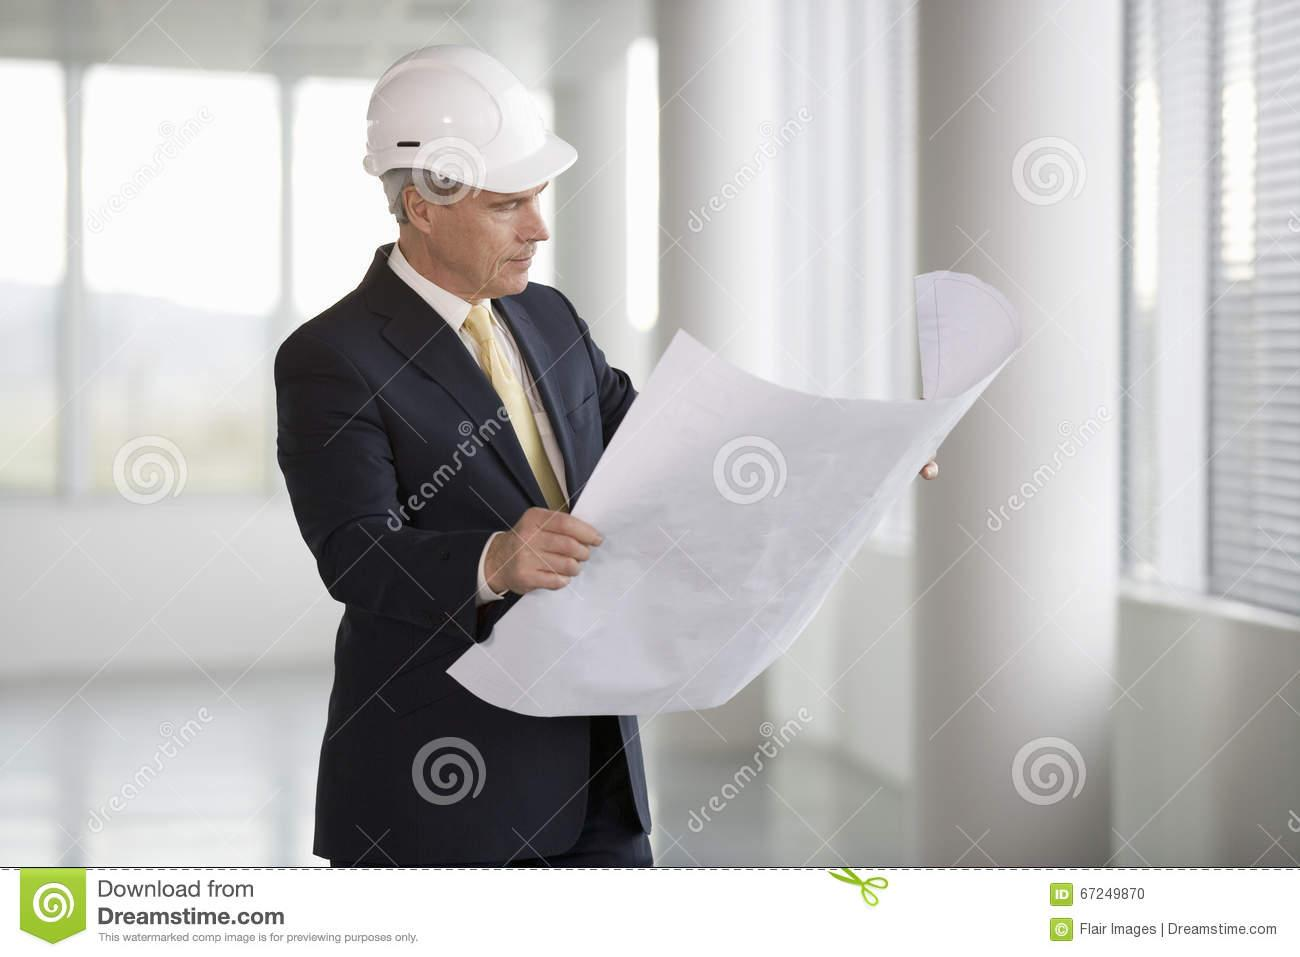helmet: (366, 41, 583, 199)
